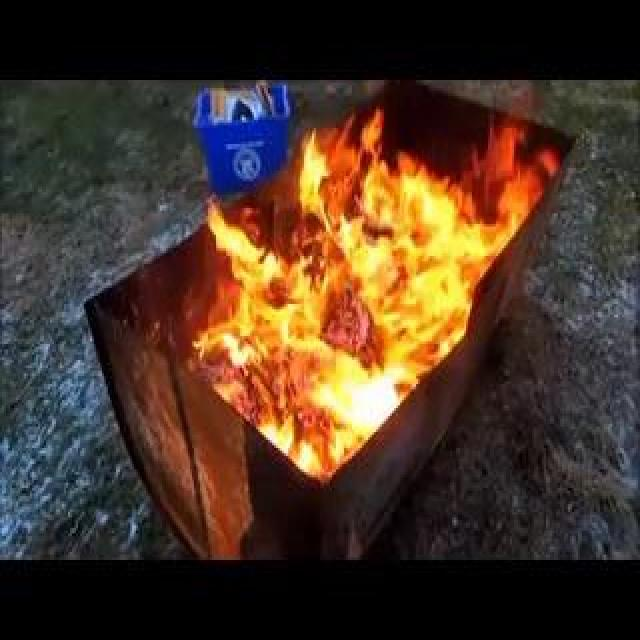Fire: (352, 284, 365, 402)
